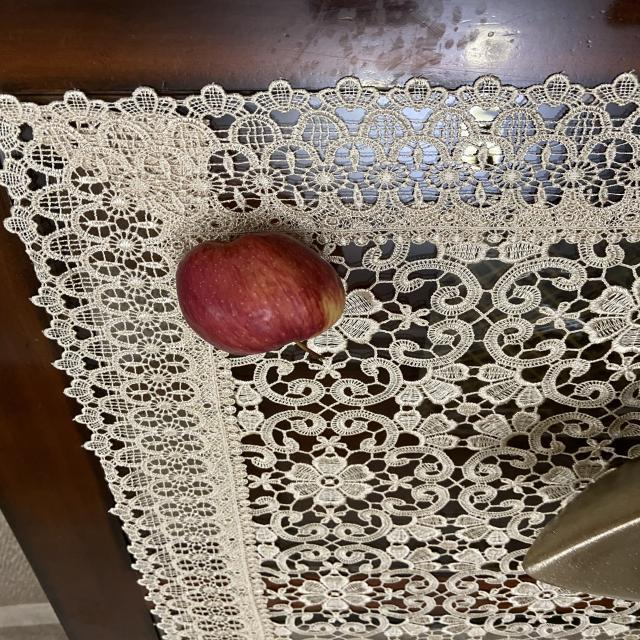apple: (170, 227, 347, 367)
